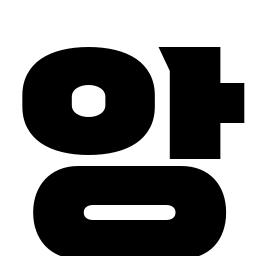Gaji: (162, 75, 233, 137)
